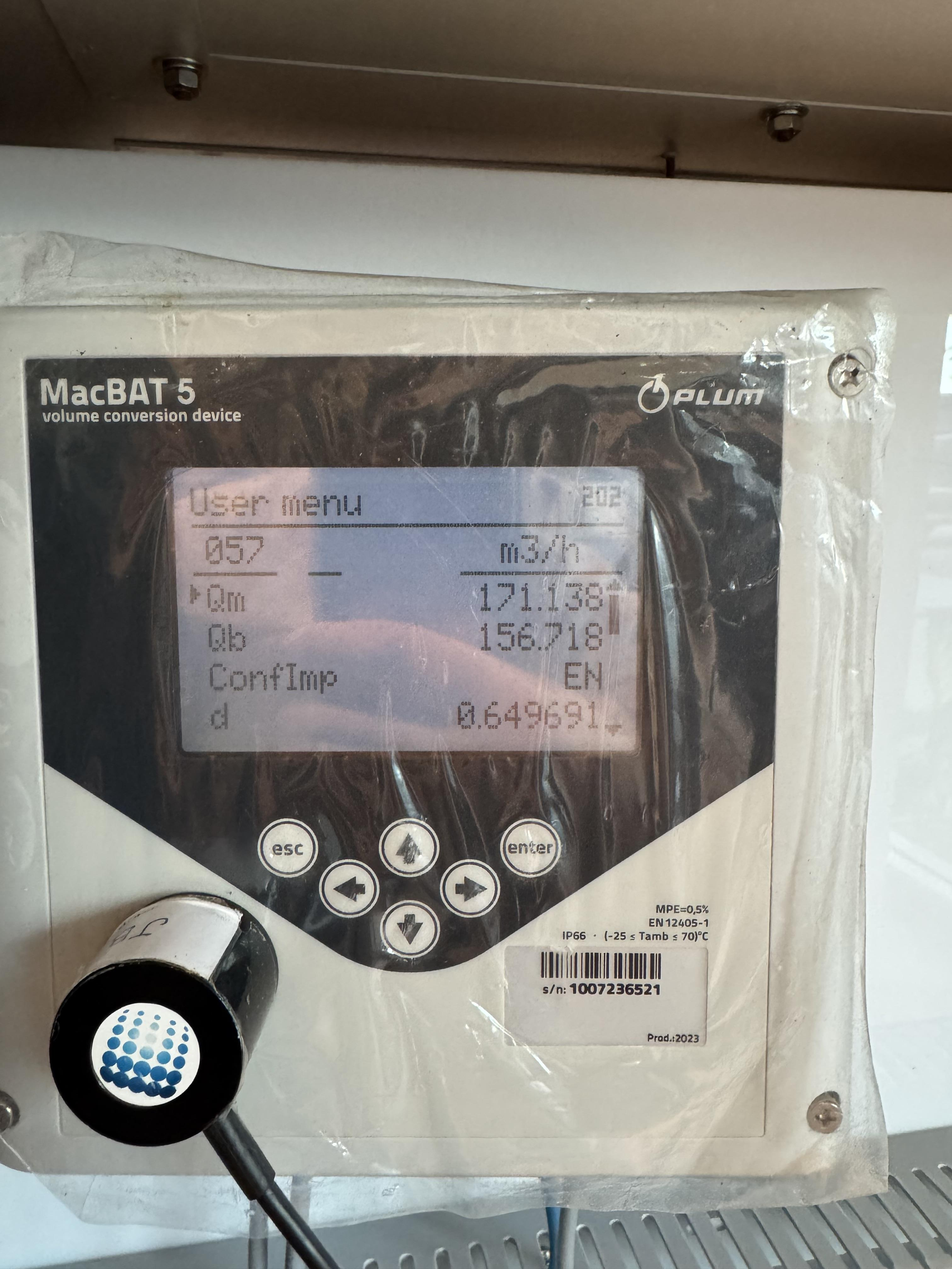digital_screen: (169, 467, 642, 758)
